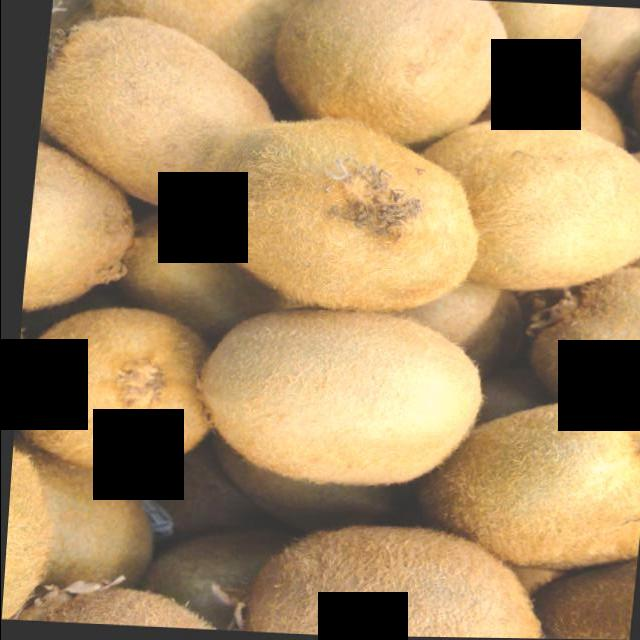kiwi: (187, 119, 484, 318), (195, 310, 482, 494), (433, 119, 640, 308), (450, 379, 640, 579), (10, 313, 233, 483), (248, 523, 562, 640), (261, 2, 511, 132), (40, 149, 112, 315)
